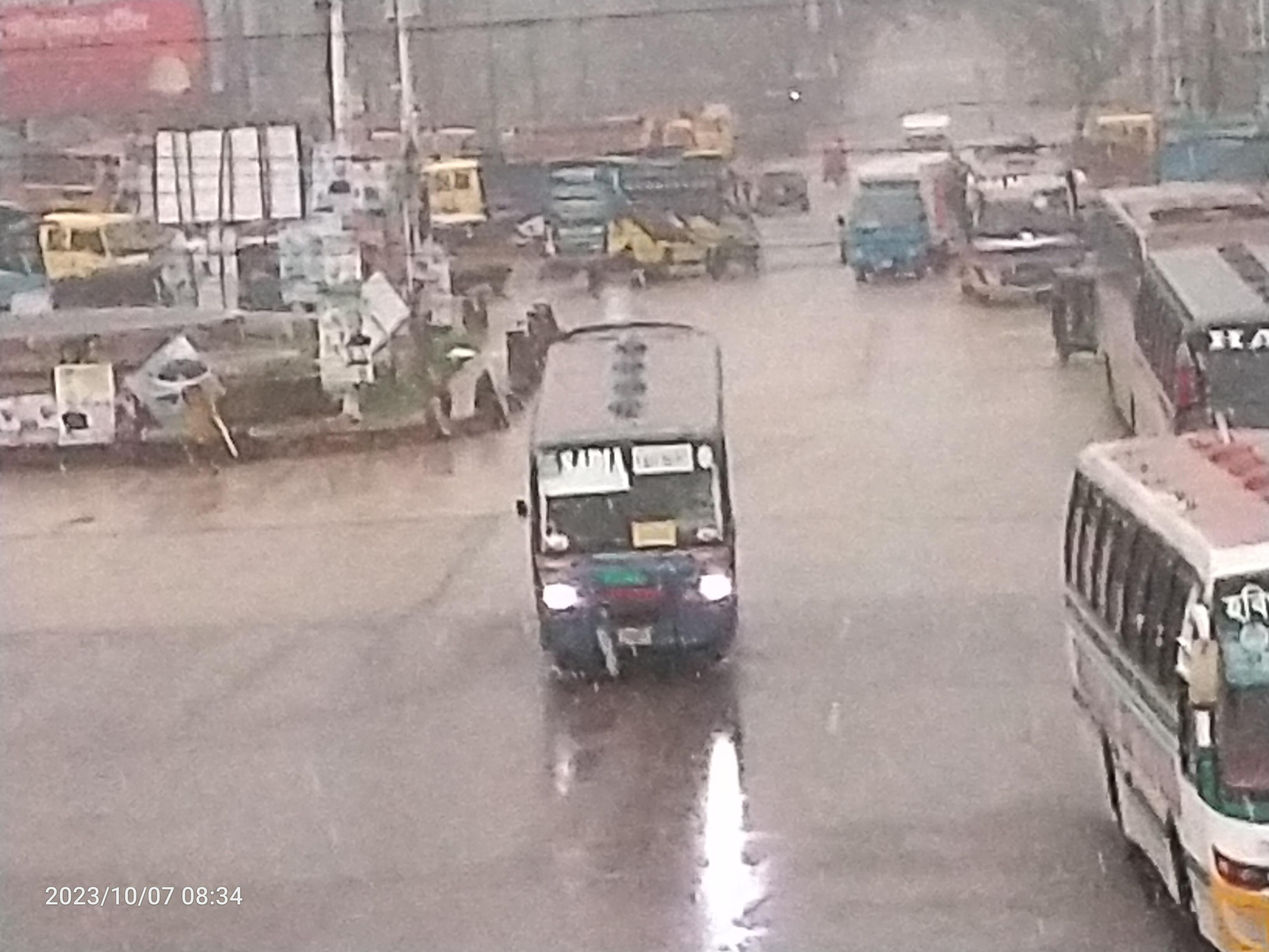Bus: (1030, 409, 1269, 952), (474, 285, 783, 704), (1073, 157, 1269, 468), (515, 121, 779, 307), (944, 133, 1101, 320)
Car: (813, 124, 956, 296)
Truck: (0, 187, 175, 321), (390, 134, 538, 272)
